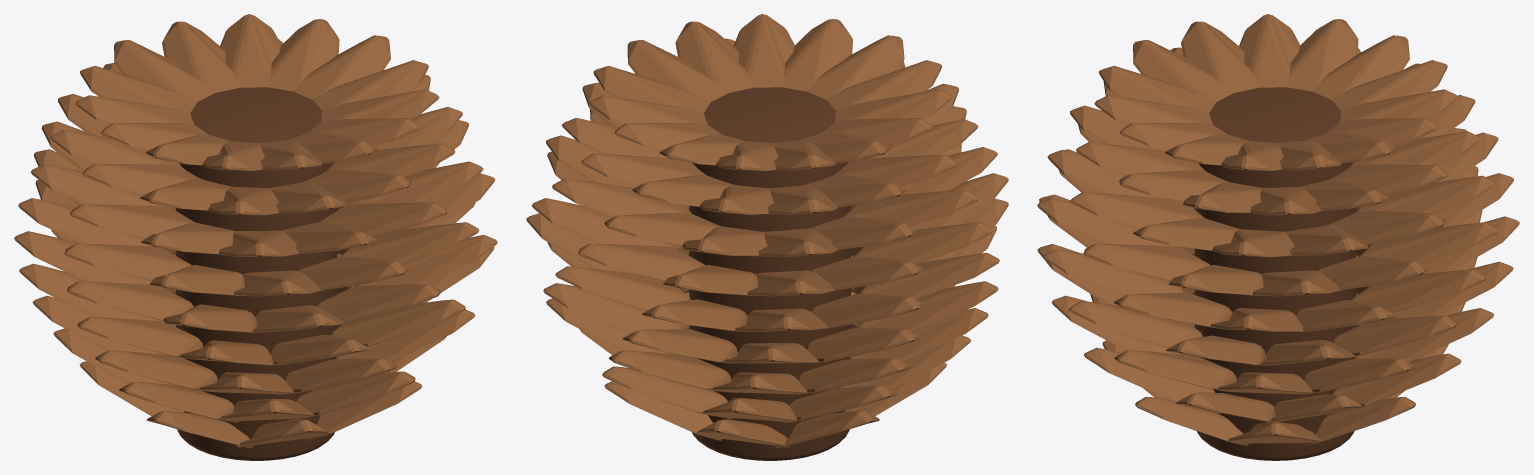
Rendered from PineConeReference.fbx.
3 renders of one model, left to right at view 1: azimuth 30°, elevation 25°; view 2: azimuth 150°, elevation 25°; view 3: azimuth 270°, elevation 25°, orthographic.
Visible parts, largest first — view 1: ConeCore, Scale_8_14, Scale_8_13, Scale_5_8, Scale_8_0, Scale_3_7, Scale_4_4, Scale_5_4, Scale_3_4, Scale_4_7, Scale_8_12, Scale_8_1 (+56 smaller); view 2: ConeCore, Scale_4_0, Scale_8_9, Scale_8_8, Scale_8_10, Scale_5_4, Scale_4_4, Scale_5_0, Scale_8_7, Scale_6_4, Scale_8_11, Scale_6_12 (+55 smaller); view 3: ConeCore, Scale_8_4, Scale_8_3, Scale_4_0, Scale_8_5, Scale_5_0, Scale_3_7, Scale_6_8, Scale_5_8, Scale_3_0, Scale_8_2, Scale_4_7 (+52 smaller).
Part boxes in pixels (left/top/right/bottom): ConeCore: left=176, top=87, right=337, bottom=460; Scale_8_14: left=220, top=14, right=281, bottom=87; Scale_8_13: left=268, top=19, right=339, bottom=91; Scale_5_8: left=341, top=222, right=479, bottom=264; Scale_8_0: left=162, top=21, right=239, bottom=92; Scale_3_7: left=331, top=299, right=465, bottom=346; Scale_4_4: left=67, top=281, right=193, bottom=320; Scale_5_4: left=64, top=244, right=191, bottom=280; Scale_3_4: left=77, top=317, right=203, bottom=356; Scale_4_7: left=316, top=284, right=440, bottom=322; Scale_8_12: left=294, top=35, right=390, bottom=99; Scale_8_1: left=114, top=40, right=214, bottom=101; ConeCore: left=689, top=87, right=850, bottom=460; Scale_4_0: left=555, top=266, right=690, bottom=310; Scale_8_9: left=733, top=14, right=794, bottom=87; Scale_8_8: left=781, top=19, right=852, bottom=91; Scale_8_10: left=675, top=21, right=753, bottom=92; Scale_5_4: left=854, top=222, right=992, bottom=264; Scale_4_4: left=860, top=252, right=999, bottom=299; Scale_5_0: left=578, top=244, right=704, bottom=280; Scale_8_7: left=807, top=35, right=904, bottom=99; Scale_6_4: left=843, top=189, right=978, bottom=226; Scale_8_11: left=627, top=39, right=728, bottom=101; Scale_6_12: left=552, top=178, right=691, bottom=216; ConeCore: left=1194, top=87, right=1356, bottom=460; Scale_8_4: left=1239, top=14, right=1300, bottom=87; Scale_8_3: left=1287, top=19, right=1358, bottom=91; Scale_4_0: left=1352, top=269, right=1485, bottom=312; Scale_8_5: left=1181, top=21, right=1258, bottom=92; Scale_5_0: left=1360, top=222, right=1498, bottom=263; Scale_3_7: left=1069, top=301, right=1202, bottom=347; Scale_6_8: left=1070, top=192, right=1204, bottom=228; Scale_5_8: left=1083, top=243, right=1210, bottom=280; Scale_3_0: left=1332, top=315, right=1457, bottom=355; Scale_8_2: left=1313, top=35, right=1409, bottom=99; Scale_4_7: left=1043, top=249, right=1183, bottom=296.
Size of the model in its own units: 2.51 by 1.97 by 2.51.
